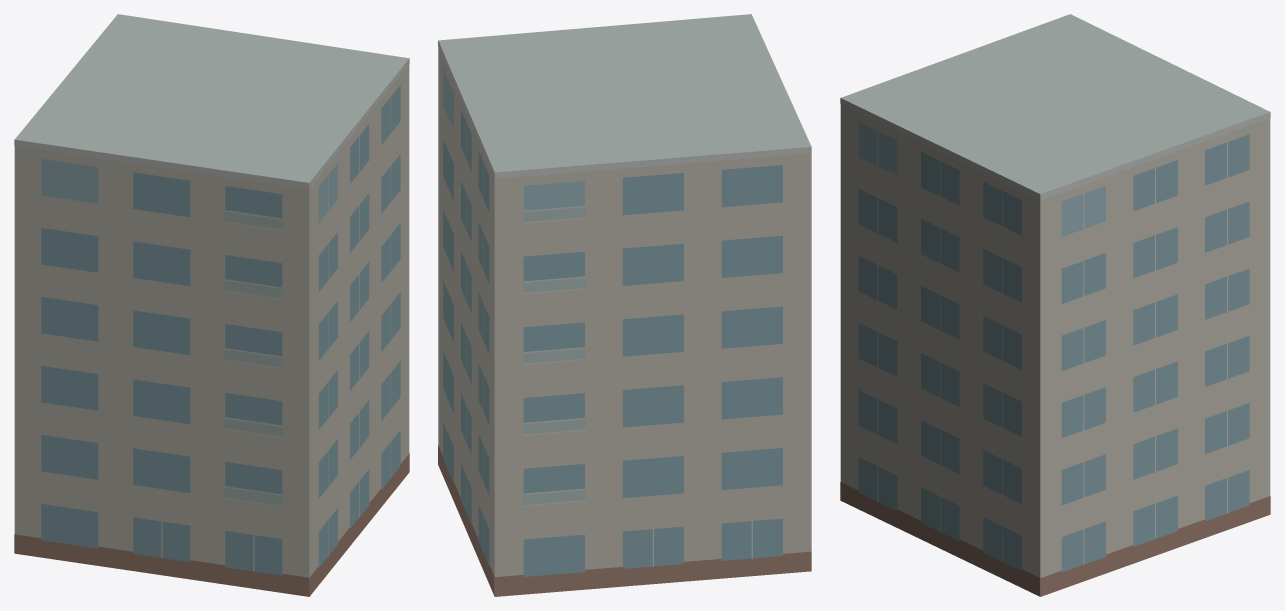
File: survey-upis-32997886.glb
3 renders of one model, left to right at view 1: azimuth 30°, elevation 25°; view 2: azimuth 150°, elevation 25°; view 3: azimuth 270°, elevation 25°, orthographic. The views are drawn at different scales.
Parts seen in each view (by area): view 1: survey-upis-32997886.tmp; view 2: survey-upis-32997886.tmp; view 3: survey-upis-32997886.tmp.
Part boxes in pixels (x1,y1,x2,y2): survey-upis-32997886.tmp: (14,14,409,596); survey-upis-32997886.tmp: (438,14,811,596); survey-upis-32997886.tmp: (840,14,1270,596).
Size of the model in its own units: 15.46 by 16.1 by 15.59.
